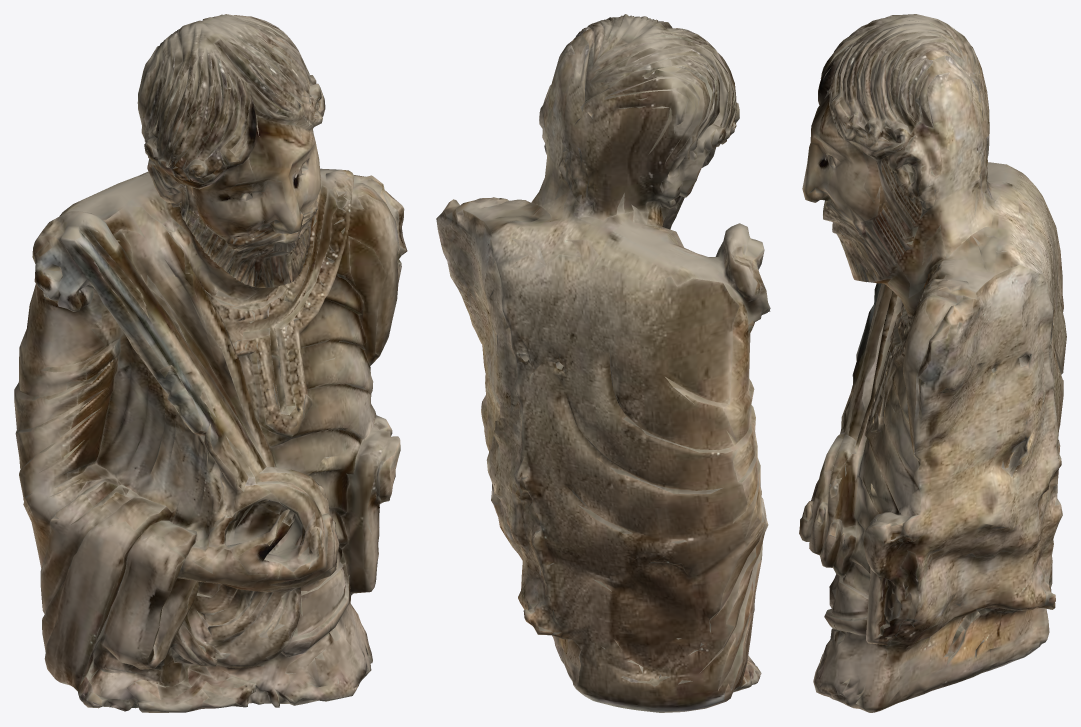
Rendered from saint-peter-b.glb.
3 views of the same model, side by side, from view 1: azimuth 30°, elevation 25°; view 2: azimuth 150°, elevation 25°; view 3: azimuth 270°, elevation 25° (orthographic). The views are drawn at different scales.
Visible parts, largest first — view 1: Mesh; view 2: Mesh; view 3: Mesh.
Part boxes in pixels (x1,y1,x2,y2): Mesh: [14, 14, 407, 712]; Mesh: [436, 14, 770, 712]; Mesh: [799, 14, 1066, 712].
Bounding box in the file's own units: 0.4326 × 0.7613 × 0.2924.
Materials: 1 (1 with a texture image).
